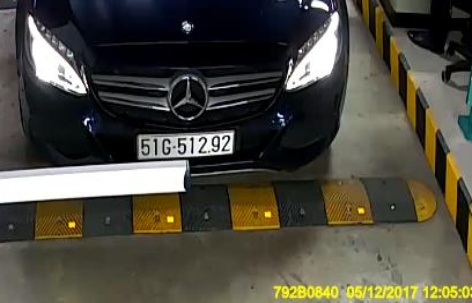plate: (136, 129, 236, 159)
